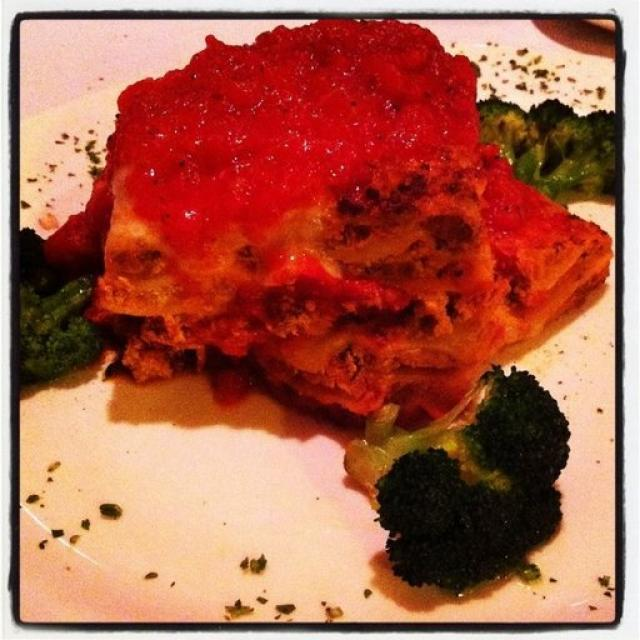Lasagna: (81, 20, 599, 441)
